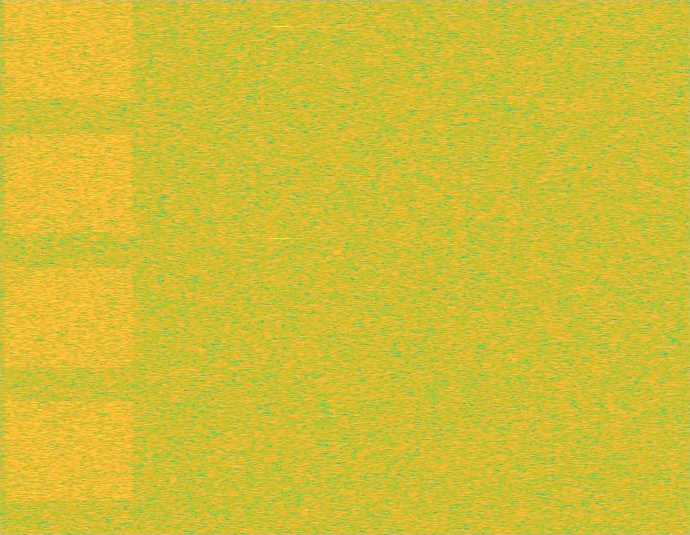5G: (0, 0, 138, 534)
Radar: (274, 0, 288, 534)
